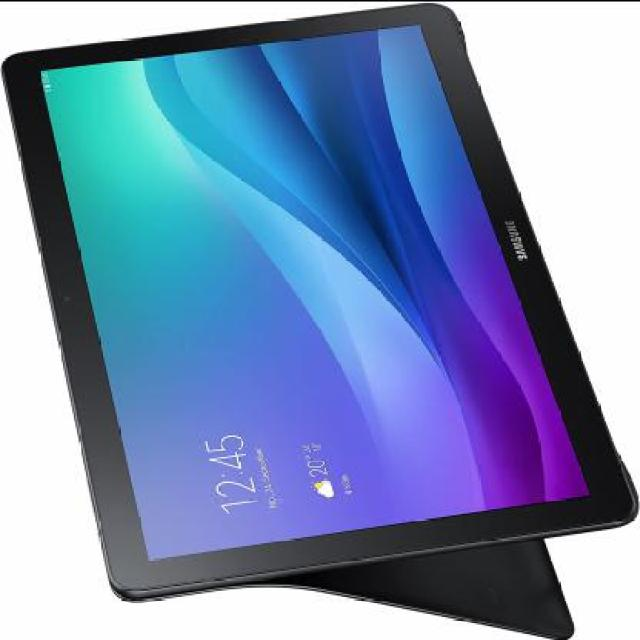smart phone: (17, 10, 636, 605)
